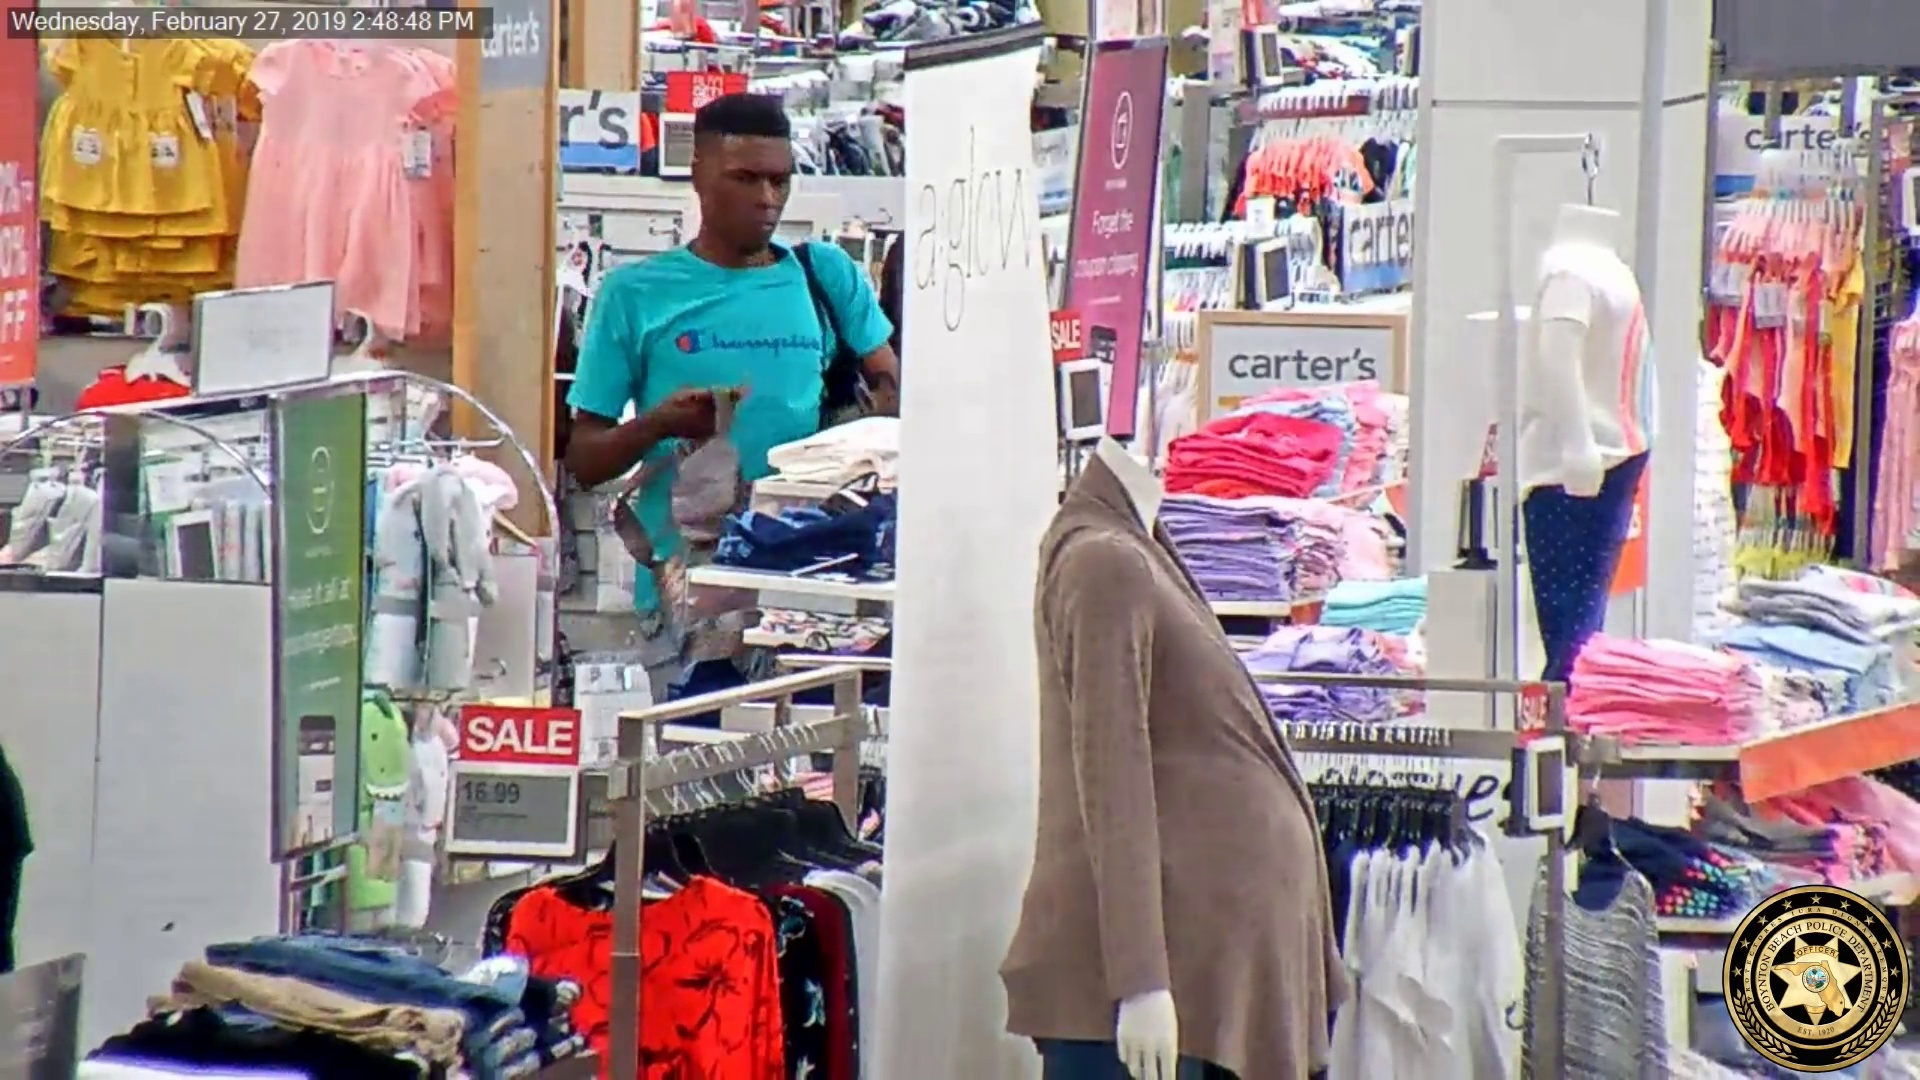face: (704, 119, 798, 248)
